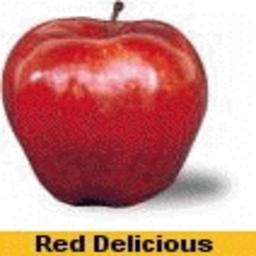apple: (1, 16, 209, 207)
